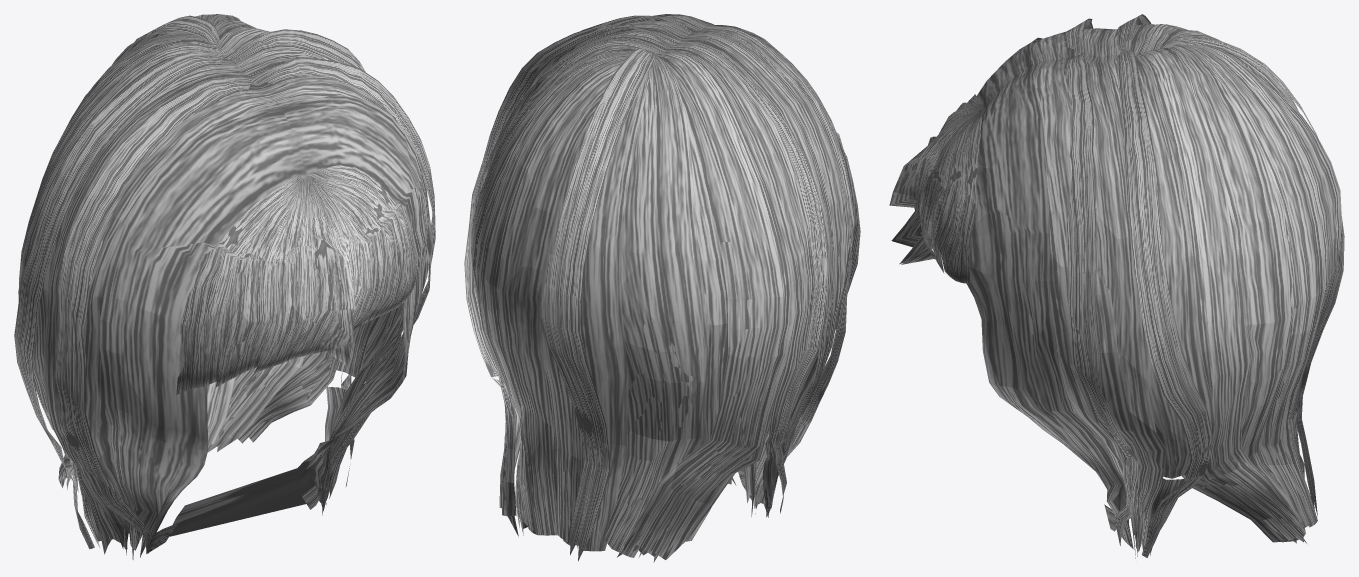
File: hair_short04.glb
3 renders of one model, left to right at view 1: azimuth 30°, elevation 25°; view 2: azimuth 150°, elevation 25°; view 3: azimuth 270°, elevation 25°, orthographic. The views are drawn at different scales.
Visible parts, largest first — view 1: hair_short04; view 2: hair_short04; view 3: hair_short04.
Boxes of the visible parts, <box> form: hair_short04: <box>14,14,435,559</box>; hair_short04: <box>464,14,860,562</box>; hair_short04: <box>889,14,1344,558</box>.
Bounding box in the file's own units: 0.2045 × 0.2607 × 0.2233.
1 material, 1 textured.
